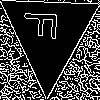F: (24, 9, 65, 41)
